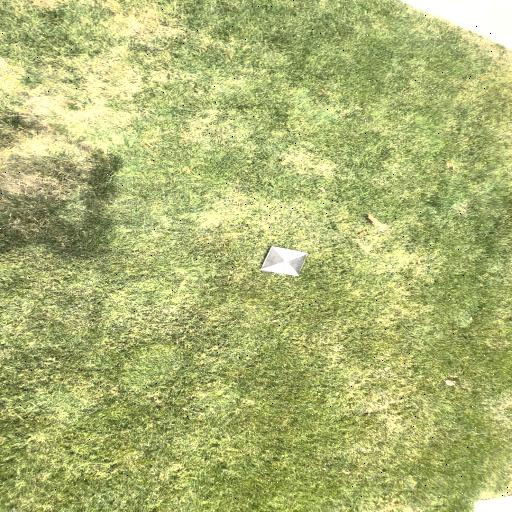target: (261, 246, 308, 275)
